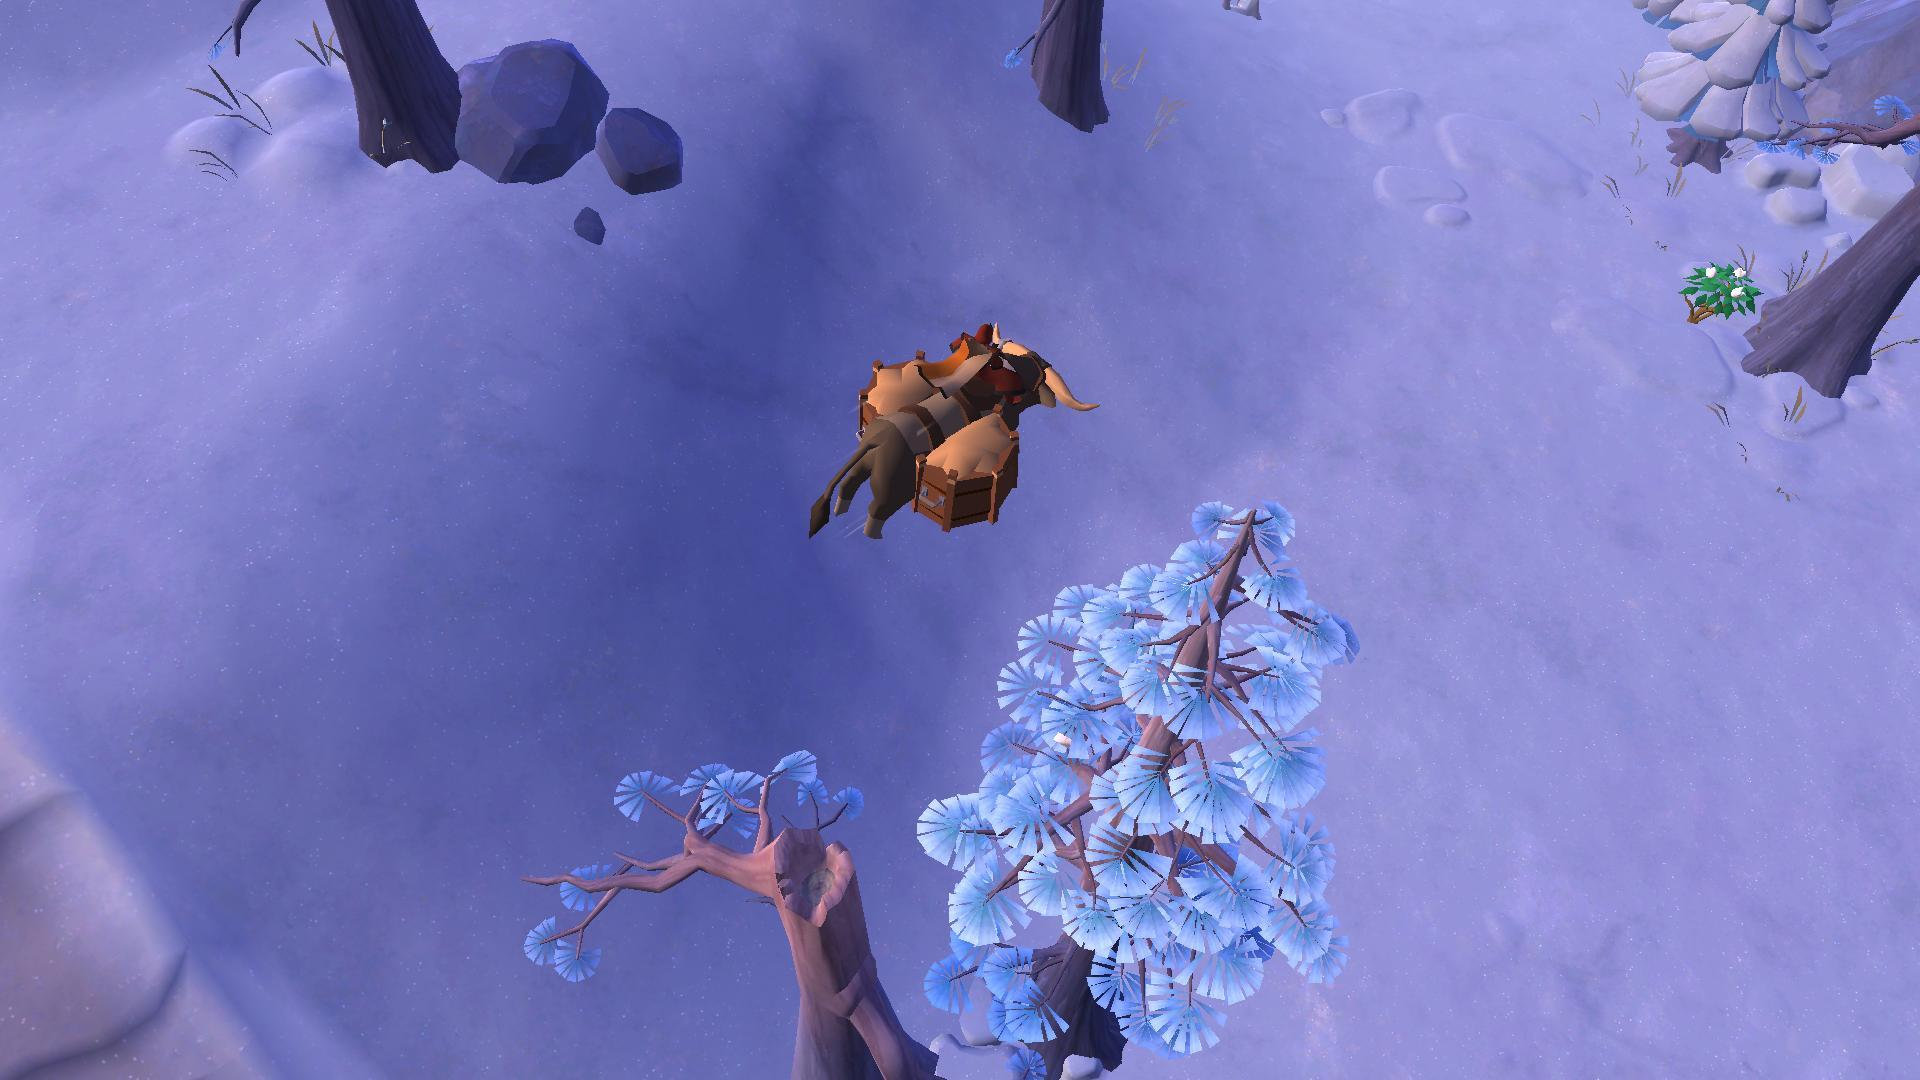fiber_t3: (1673, 260, 1759, 336)
